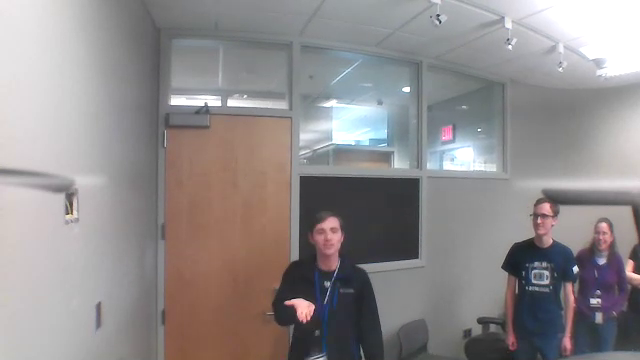land: (280, 293, 322, 329)
